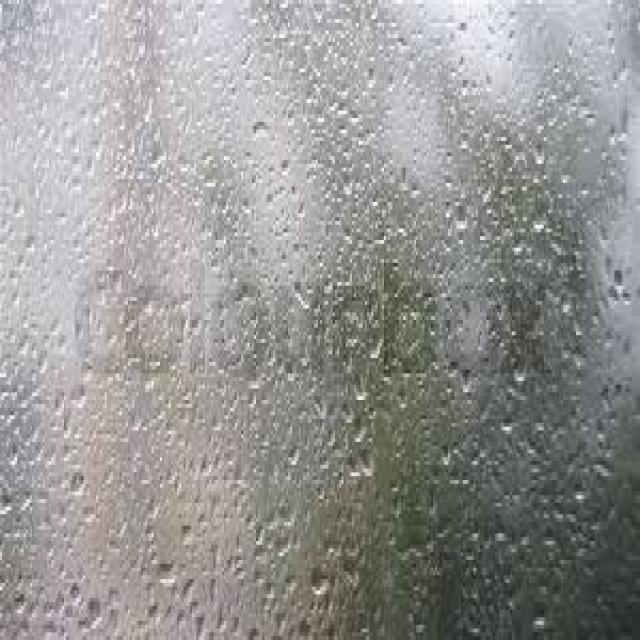raindrop: (298, 538, 342, 626), (142, 543, 190, 607), (236, 106, 276, 157), (523, 190, 559, 245), (288, 268, 326, 320), (447, 190, 477, 250), (348, 394, 378, 452), (352, 432, 382, 487), (346, 358, 374, 412), (79, 588, 106, 640), (364, 320, 392, 366), (458, 360, 481, 404), (511, 346, 532, 394)
